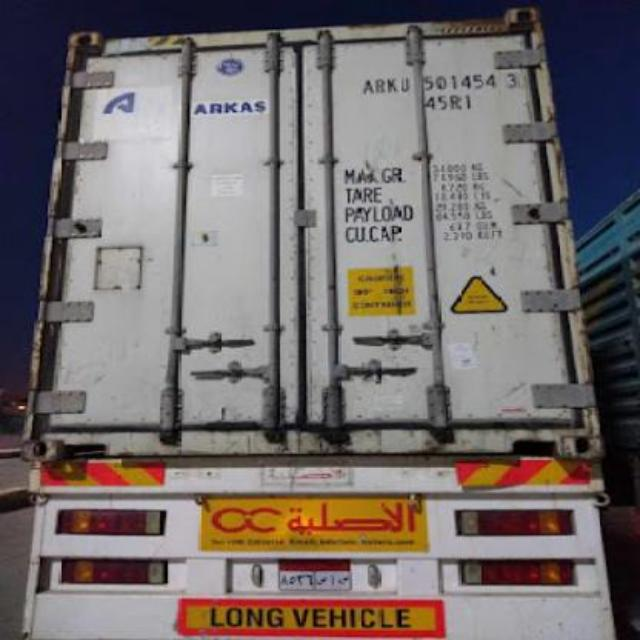0: (436, 75, 446, 91)
1: (450, 75, 458, 88)
3: (506, 74, 518, 90)
4: (461, 73, 474, 91), (484, 72, 498, 88)
5: (472, 74, 484, 90), (424, 75, 434, 91)
A: (362, 78, 374, 94)
K: (386, 76, 399, 94)
R: (372, 78, 386, 94)
U: (398, 76, 412, 94)
